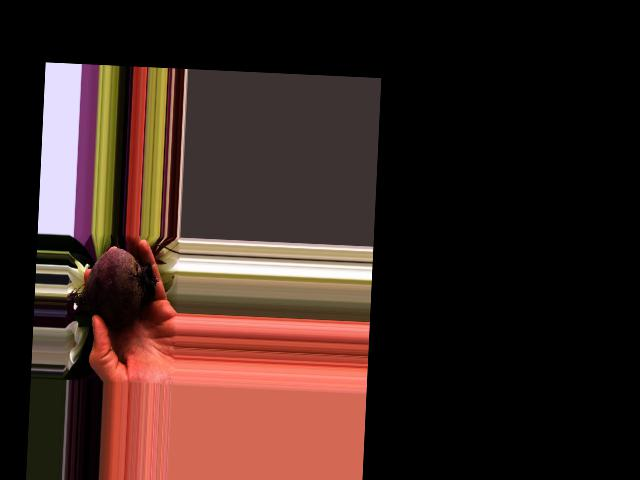beet: (65, 245, 160, 329)
